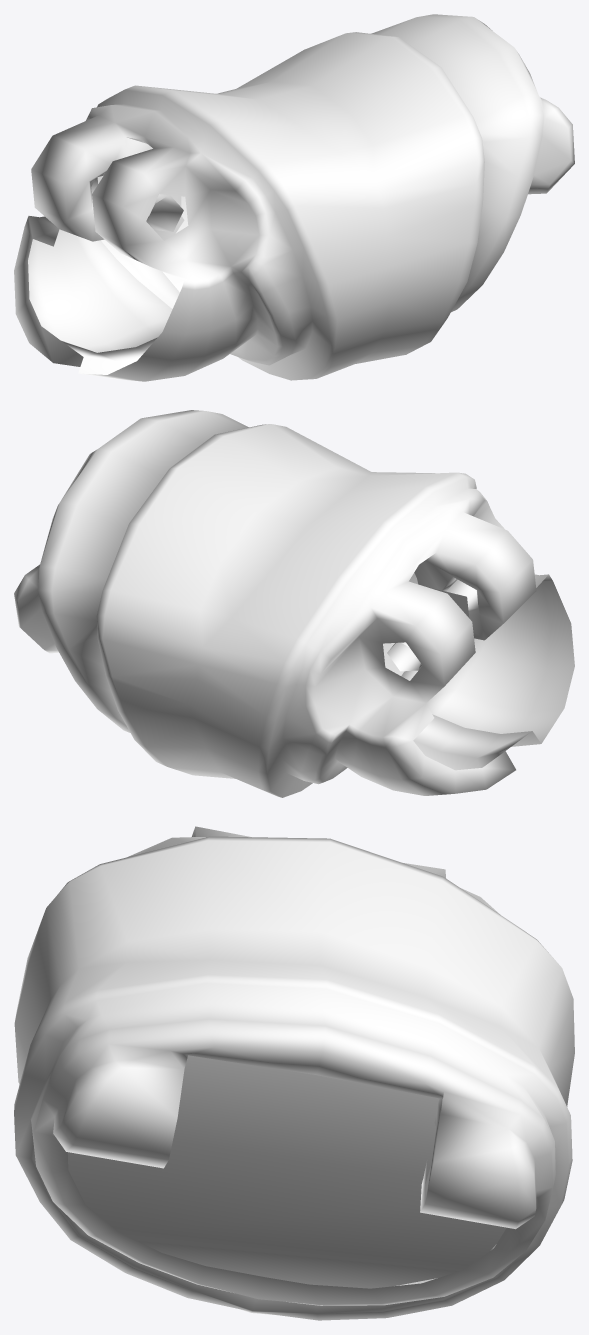
The model's file is LFinger22.dae.
3 renders of one model, top to bottom at view 1: azimuth 30°, elevation 25°; view 2: azimuth 150°, elevation 25°; view 3: azimuth 270°, elevation 25°, orthographic. The views are drawn at different scales.
Visible parts, largest first — view 1: LFinger22; view 2: LFinger22; view 3: LFinger22.
Part boxes in pixels (x1=…): LFinger22: x1=14, y1=14, x2=574, y2=381; LFinger22: x1=14, y1=410, x2=574, y2=797; LFinger22: x1=14, y1=826, x2=574, y2=1320.
Size of the model in its own units: 0.1938 by 0.1588 by 0.1204.
1 material, 1 textured.
